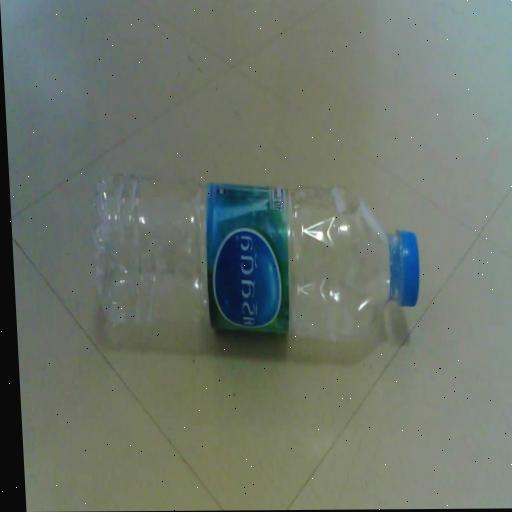bottle: (68, 137, 447, 415)
